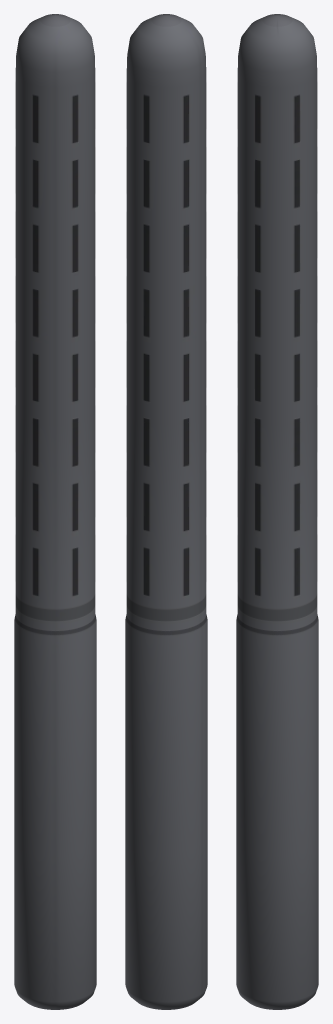
Rendered from sennheiser-mkh-416.glb.
3 views of the same model, side by side, from view 1: azimuth 90°, elevation 25°; view 2: azimuth 150°, elevation 25°; view 3: azimuth 270°, elevation 25° (orthographic).
Visible parts, largest first — view 1: sennheiser-mkh-416-body; view 2: sennheiser-mkh-416-body; view 3: sennheiser-mkh-416-body.
Boxes of the visible parts, x1,y1,x2,y2 form: sennheiser-mkh-416-body: (14,14,96,1009); sennheiser-mkh-416-body: (125,14,207,1009); sennheiser-mkh-416-body: (236,14,318,1009).
Size of the model in its own units: 0.019 by 0.25 by 0.019.
1 material, 1 textured.
